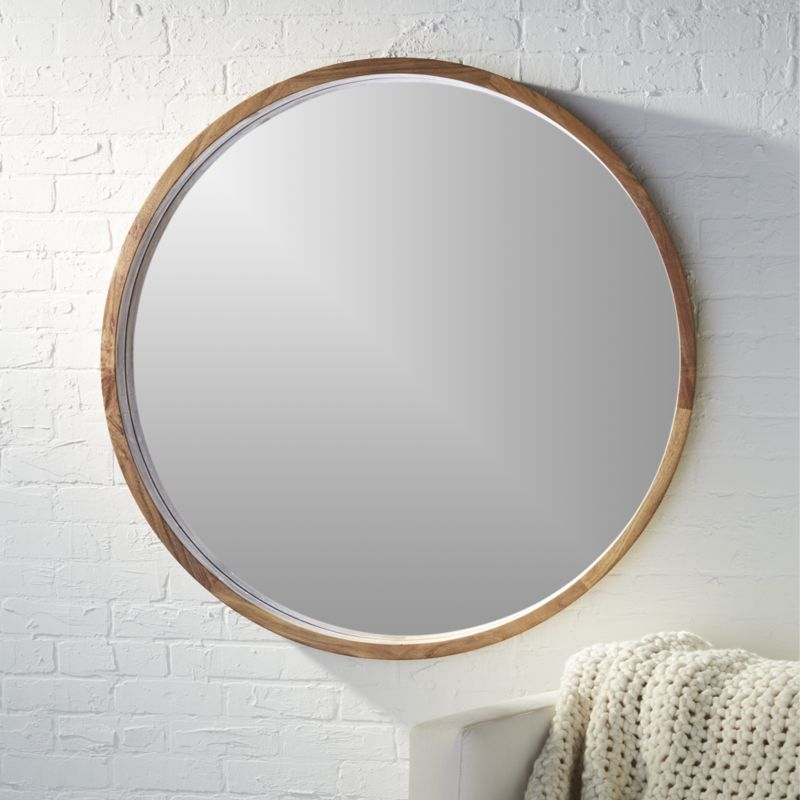Nonrec_Glass: (53, 43, 710, 665)
